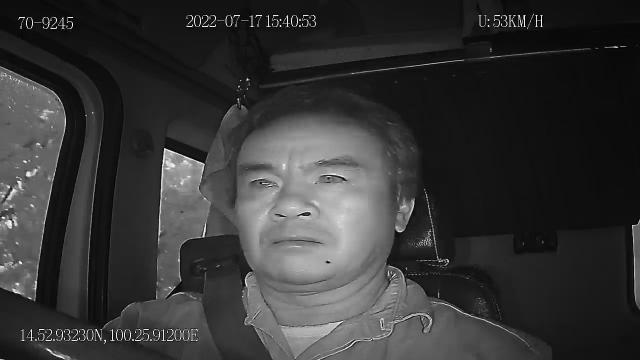SafeDriving: (306, 162, 361, 192), (240, 164, 285, 197)
Seatbelt: (200, 261, 274, 360)
